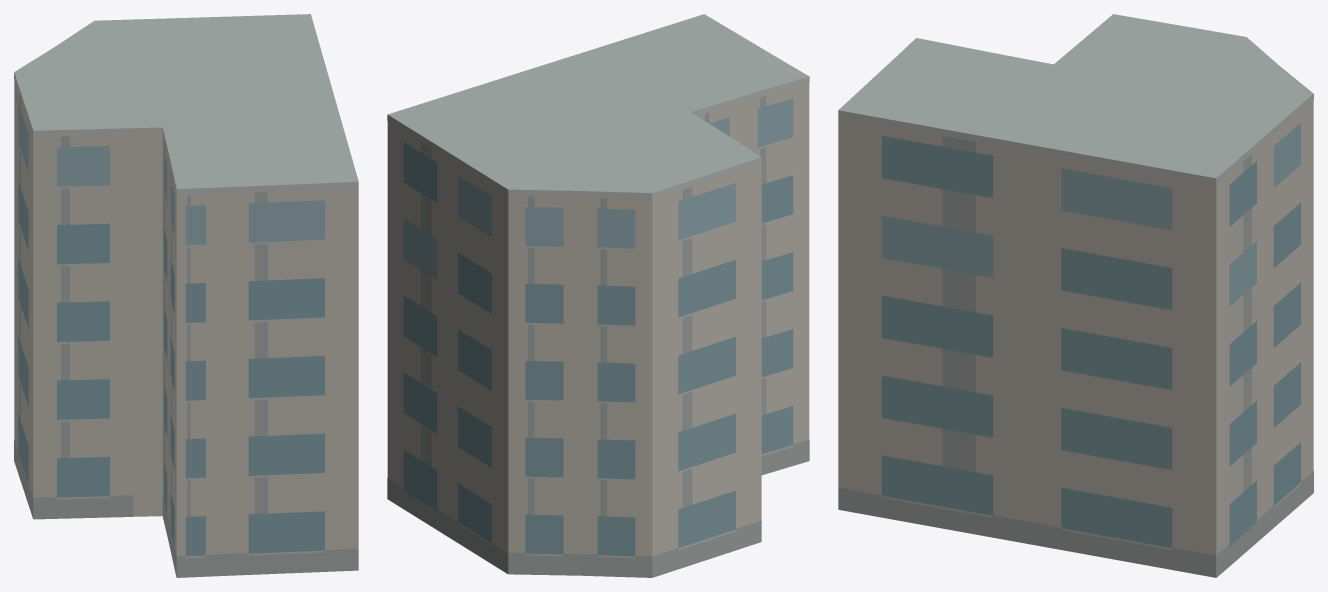
Rendered from survey-upis-32530173.glb.
The picture shows the model from 3 angles, left to right: view 1: azimuth 30°, elevation 25°; view 2: azimuth 150°, elevation 25°; view 3: azimuth 270°, elevation 25°; orthographic projection. The views are drawn at different scales.
Visible parts, largest first — view 1: survey-upis-32530173.tmp; view 2: survey-upis-32530173.tmp; view 3: survey-upis-32530173.tmp.
Part boxes in pixels (x1,y1,x2,y2): survey-upis-32530173.tmp: (14, 14, 358, 577); survey-upis-32530173.tmp: (387, 14, 809, 577); survey-upis-32530173.tmp: (838, 14, 1313, 577).
Size of the model in its own units: 12.79 by 14.48 by 15.63.
